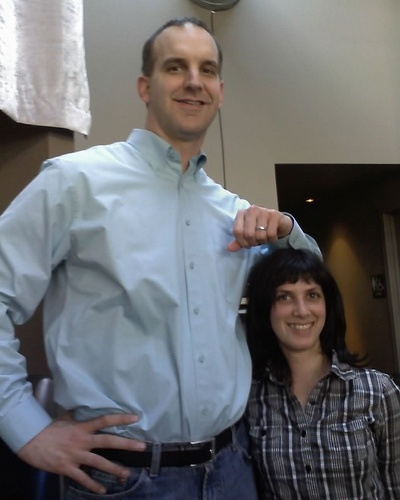head: (136, 19, 226, 139), (256, 250, 335, 354)
person: (1, 1, 312, 500), (240, 249, 399, 498)
